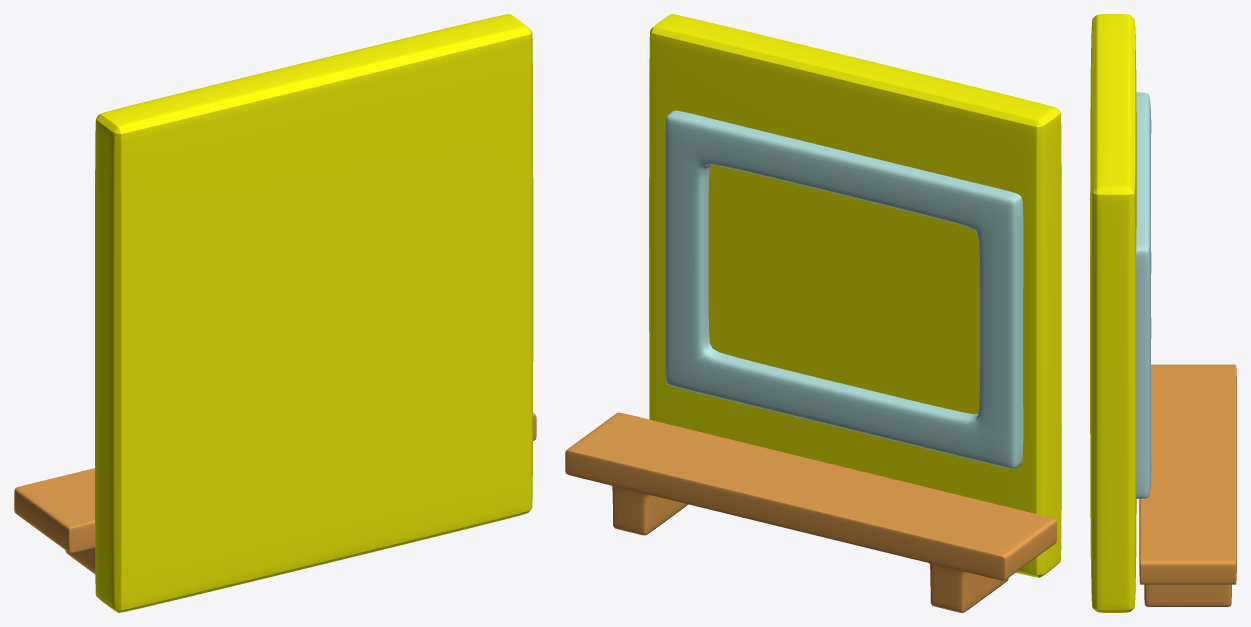
The picture shows the model from 3 angles, left to right: view 1: azimuth 30°, elevation 25°; view 2: azimuth 150°, elevation 25°; view 3: azimuth 270°, elevation 25°; orthographic projection. The views are drawn at different scales.
Visible parts, largest first — view 1: polySurface143815; view 2: polySurface143815; view 3: polySurface143815.
Boxes of the visible parts, box(x1,y1,x2,y2) form: polySurface143815: box(14, 14, 536, 612); polySurface143815: box(565, 14, 1061, 612); polySurface143815: box(1090, 14, 1236, 612).
Bounding box in the file's own units: 0.9998 × 0.9995 × 0.3116.
